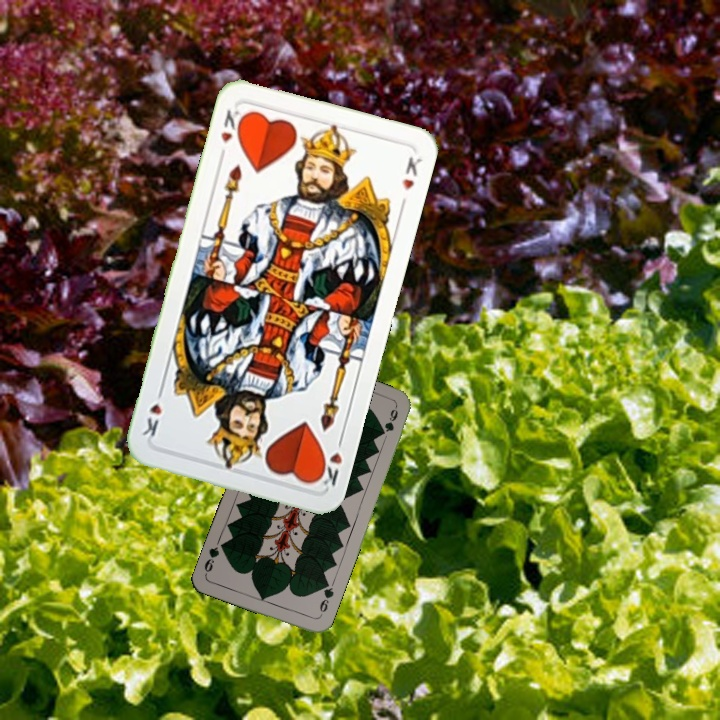G9: (315, 580, 336, 620)
HK: (312, 432, 346, 490), (215, 105, 247, 161)
